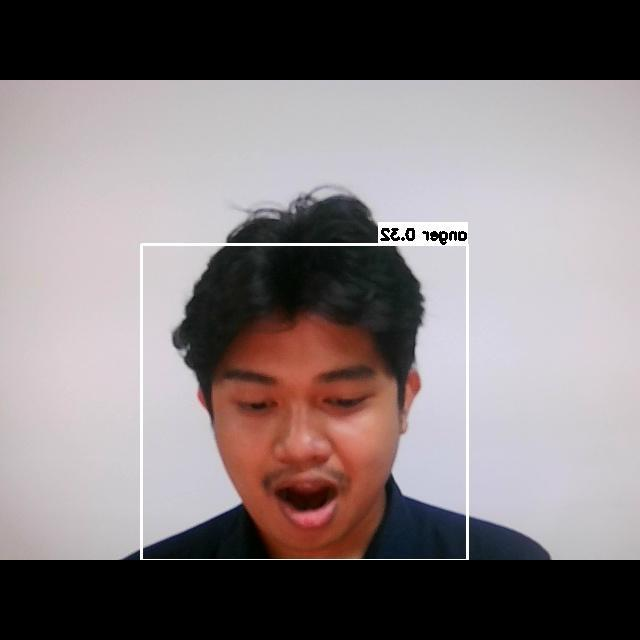Surprised: (173, 328, 441, 550)
